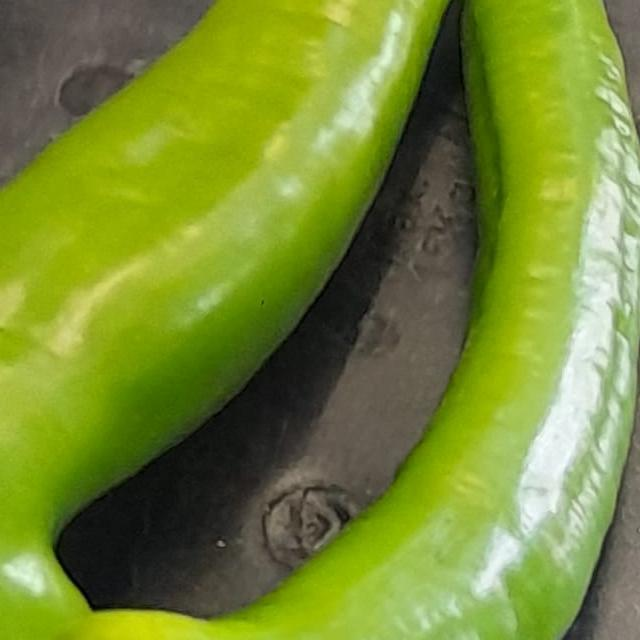chili_pepper: (0, 0, 640, 640), (0, 0, 556, 640)
